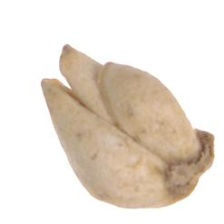L1: (42, 39, 114, 123), (167, 150, 214, 205)
L2: (42, 44, 215, 208)
